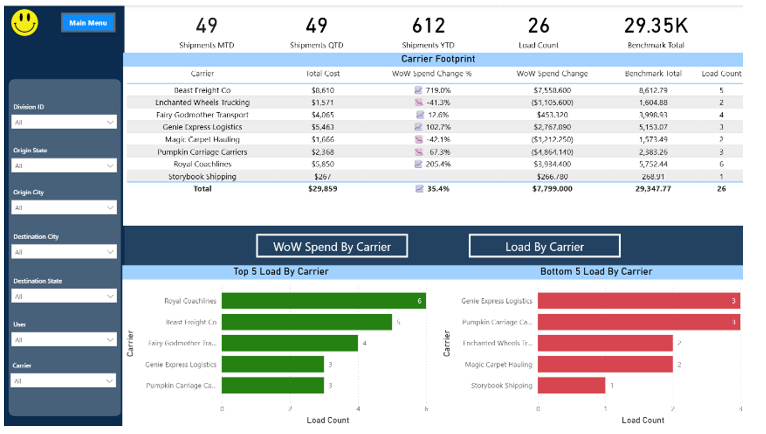

Layout of this report page (visuals, bound fields, positions):
{"tool":"powerbi","page":{"name":"Carrier Footprint","canvas":[1280,720],"ordinal":3},"visuals":[{"type":"shape","box":[0,1.3,206.6,717.8],"z":0},{"type":"shape","title":"Page Title Shape","box":[202.6,375.7,1706.7,68.4],"z":1000},{"type":"shape","box":[9,127,191,574],"z":3000},{"type":"slicer","title":"Div Lookup Slicer","fields":{"Values":["tms TransportationLoadLevels.Division ID"]},"box":[4.5,160.1,199.6,62],"z":4000},{"type":"slicer","title":"Origin City Lookup Slicer","fields":{"Values":["tms TransportationLoadLevels.Origin City"]},"box":[4.5,306.7,199.6,62],"z":5000},{"type":"slicer","title":"Dest. City Lookup Slicer","fields":{"Values":["tms TransportationLoadLevels.Destination City"]},"box":[4.5,382.3,199.6,62],"z":6000},{"type":"slicer","title":"Dest. State Lookup Slicer","fields":{"Values":["tms TransportationLoadLevels.Destination State"]},"box":[4.5,457.9,199.6,62],"z":7000},{"type":"slicer","title":"User Lookup Slicer","fields":{"Values":["tms ReferenceTableLaneOwner.User"]},"box":[4.5,531.2,199.6,62],"z":8000},{"type":"slicer","title":"Origin State Lookup Slicer","fields":{"Values":["tms TransportationLoadLevels.Origin State"]},"box":[4.5,234.6,199.6,62],"z":9000},{"type":"actionButton","box":[88.7,3.6,111,51],"z":10000},{"type":"slicer","title":"User Lookup Slicer","fields":{"Values":["tms TransportationLoadLevels.Carrier"]},"box":[2.3,602.2,199.6,62],"z":12000},{"type":"card","fields":{"Values":["Measures Table.Shipments MTD"]},"box":[279.7,0,133.7,79.9],"z":13000},{"type":"card","fields":{"Values":["Measures Table.Shipments YTD"]},"box":[654.6,0,139.8,79.9],"z":14000},{"type":"card","fields":{"Values":["Measures Table.Shipments QTD"]},"box":[461,0,146,79.9],"z":15000},{"type":"card","fields":{"Values":["Measures Table.Load Count"]},"box":[831.3,0,164.4,79.9],"z":16000},{"type":"card","fields":{"Values":["Sum(tms TransportationLoadLevels.Benchmark Total)"]},"box":[1011.1,0,204.4,79.9],"z":17000},{"type":"tableEx","title":"Carrier Footprint","fields":{"Values":["tms TransportationLoadLevels.Carrier","Measures Table.Total Cost","Measures Table.WoW Spend Change %","Measures Table.WoW Spend Change","Sum(tms TransportationLoadLevels.Benchmark Total)","Measures Table.Load Count"]},"box":[205.3,80.5,1074.7,295.2],"z":18000},{"type":"actionButton","box":[430.7,390.4,259,40.3],"z":21000},{"type":"actionButton","box":[794.3,390.4,259,40.3],"z":22000},{"type":"barChart","title":"Top 5 Load By Carrier","fields":{"Y":["Measures Table.Load Count"],"Category":["tms TransportationLoadLevels.Carrier"]},"box":[202.6,443.6,540.7,276.4],"z":23000},{"type":"barChart","title":"Bottom 5 Load By Carrier","fields":{"Y":["Measures Table.Load Count"],"Category":["tms TransportationLoadLevels.Carrier"]},"box":[743.3,443.6,536.7,276.4],"z":24000},{"type":"image","box":[8.8,0,56.4,59.3],"z":25000}]}

Visuals, with their boxes in screenshot pixels (x1, y1, x2, y2), scaled from the page's 1280x720 canvas onto the 766x434 screenshot:
shape: BBox(0, 1, 124, 433)
"Page Title Shape" shape: BBox(121, 226, 765, 268)
shape: BBox(5, 77, 120, 423)
"Div Lookup Slicer" slicer: BBox(3, 97, 122, 134)
"Origin City Lookup Slicer" slicer: BBox(3, 185, 122, 222)
"Dest. City Lookup Slicer" slicer: BBox(3, 230, 122, 268)
"Dest. State Lookup Slicer" slicer: BBox(3, 276, 122, 313)
"User Lookup Slicer" slicer: BBox(3, 320, 122, 358)
"Origin State Lookup Slicer" slicer: BBox(3, 141, 122, 179)
actionButton: BBox(53, 2, 120, 33)
"User Lookup Slicer" slicer: BBox(1, 363, 121, 400)
card - Measures Table.Shipments MTD: BBox(167, 0, 247, 48)
card - Measures Table.Shipments YTD: BBox(392, 0, 475, 48)
card - Measures Table.Shipments QTD: BBox(276, 0, 363, 48)
card - Measures Table.Load Count: BBox(497, 0, 596, 48)
card - Sum(tms TransportationLoadLevels.Benchmark Total): BBox(605, 0, 727, 48)
"Carrier Footprint" tableEx: BBox(123, 49, 765, 226)
actionButton: BBox(258, 235, 413, 260)
actionButton: BBox(475, 235, 630, 260)
"Top 5 Load By Carrier" barChart: BBox(121, 267, 445, 433)
"Bottom 5 Load By Carrier" barChart: BBox(445, 267, 765, 433)
image: BBox(5, 0, 39, 36)
